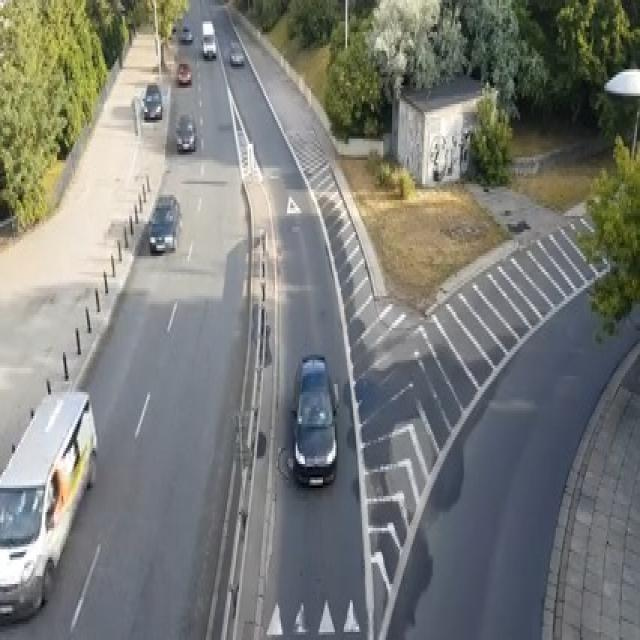bus: (0, 387, 98, 621)
car: (290, 352, 338, 485), (147, 192, 180, 253), (174, 112, 196, 152), (141, 83, 162, 120), (202, 18, 216, 58), (286, 195, 300, 229), (228, 40, 244, 64), (177, 61, 191, 85), (179, 24, 192, 43)
